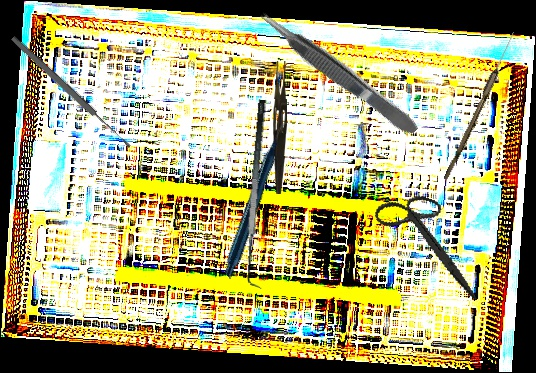Dressing Forceps: (271, 60, 289, 195)
Handpiece: (174, 120, 343, 280)
Iris Scissors: (359, 184, 502, 300)
Spatula Surgical: (238, 99, 282, 289)
Surgical Spoon: (9, 34, 133, 151), (443, 30, 517, 182)
Tissue Forceps: (255, 4, 422, 142)
